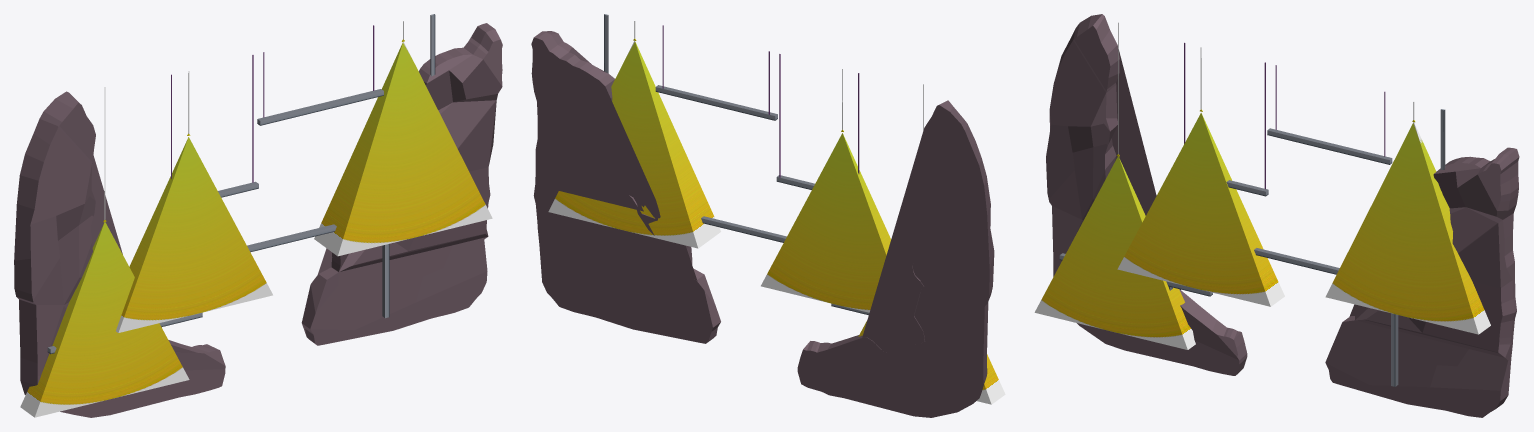
File: L1_Movement101Scene.fbx
The picture shows the model from 3 angles, left to right: view 1: azimuth 30°, elevation 25°; view 2: azimuth 150°, elevation 25°; view 3: azimuth 330°, elevation 25°; orthographic projection. The views are drawn at different scales.
Parts seen in each view (by area): view 1: SM_Rock2, SM_Rock1, SM_SpotlightPlane.002, SM_SpotlightPlane.001, SM_SpotlightPlane, SM_Platform.001, SM_Platform.003, SM_Platform.008; view 2: SM_Rock1, SM_Rock2, SM_SpotlightPlane.001, SM_SpotlightPlane.002, SM_Platform.001, SM_SpotlightPlane, SM_Platform.003, SM_Platformchains; view 3: SM_Rock2, SM_Rock1, SM_SpotlightPlane.002, SM_SpotlightPlane.001, SM_SpotlightPlane, SM_Platform.001, SM_Platform.003, SM_Platform.008, SM_Platformchains.
Boxes of the visible parts, x1,y1,x2,y2 form: SM_Rock2: [301, 23, 502, 345]; SM_Rock1: [14, 91, 225, 417]; SM_SpotlightPlane.002: [314, 41, 492, 256]; SM_SpotlightPlane.001: [116, 137, 272, 332]; SM_SpotlightPlane: [20, 222, 189, 417]; SM_Platform.001: [257, 89, 383, 125]; SM_Platform.003: [247, 224, 336, 252]; SM_Platform.008: [382, 244, 389, 318]; SM_Rock1: [797, 100, 994, 417]; SM_Rock2: [531, 31, 720, 343]; SM_SpotlightPlane.001: [761, 133, 890, 312]; SM_SpotlightPlane.002: [548, 40, 720, 248]; SM_Platform.001: [655, 85, 777, 120]; SM_SpotlightPlane: [858, 320, 1005, 404]; SM_Platform.003: [701, 216, 786, 242]; SM_Platformchains: [779, 54, 859, 177]; SM_Rock2: [1325, 147, 1519, 417]; SM_Rock1: [1046, 14, 1247, 375]; SM_SpotlightPlane.002: [1325, 122, 1490, 334]; SM_SpotlightPlane.001: [1117, 113, 1284, 306]; SM_SpotlightPlane: [1034, 156, 1195, 349]; SM_Platform.001: [1267, 128, 1392, 164]; SM_Platform.003: [1254, 248, 1339, 274]; SM_Platform.008: [1391, 313, 1398, 386]; SM_Platformchains: [1184, 42, 1265, 189].
Size of the model in its own units: 370 by 4202 by 2831.
8 materials, 2 textured.
